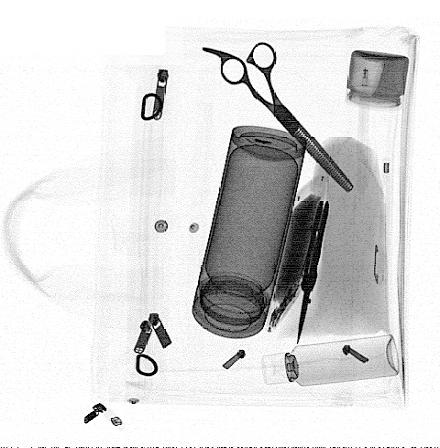Knife: (297, 197, 331, 341)
Powerbank: (267, 172, 326, 333)
Scissors: (198, 43, 357, 195)
Sprayer: (262, 333, 398, 388)
